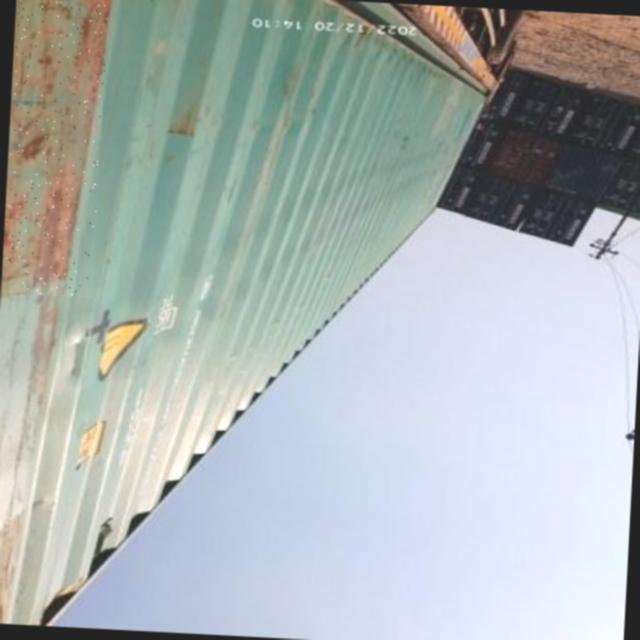rust: (4, 1, 108, 293)
